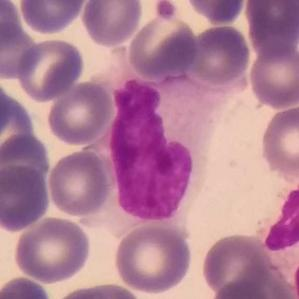Monocyte: (109, 68, 239, 231), (258, 174, 299, 294)
Platelets: (154, 0, 177, 21)
RBC: (111, 221, 194, 296), (12, 214, 94, 284), (125, 6, 200, 82), (199, 230, 271, 298), (44, 79, 116, 147), (45, 148, 113, 219), (14, 36, 87, 102), (187, 23, 253, 86), (0, 162, 52, 233), (246, 42, 299, 110), (0, 82, 40, 171), (0, 130, 52, 193), (79, 0, 145, 49), (257, 102, 299, 178), (243, 0, 299, 55), (0, 19, 42, 81), (17, 0, 88, 36), (204, 275, 295, 299), (181, 0, 248, 25), (64, 281, 146, 299), (0, 274, 53, 299), (0, 0, 23, 51), (0, 74, 12, 143)
